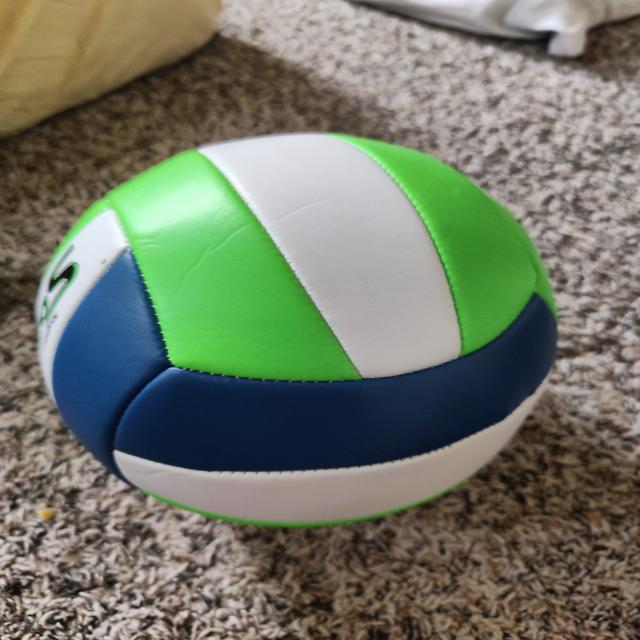ball: (39, 127, 554, 520)
